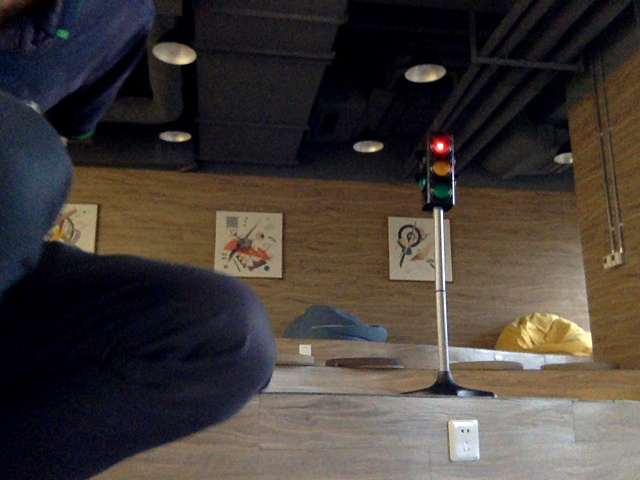red: (426, 139, 451, 201)
